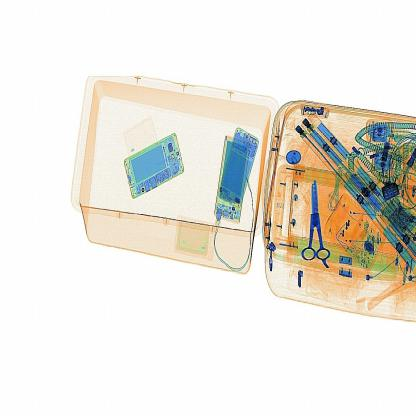gun: (292, 173, 333, 266)
